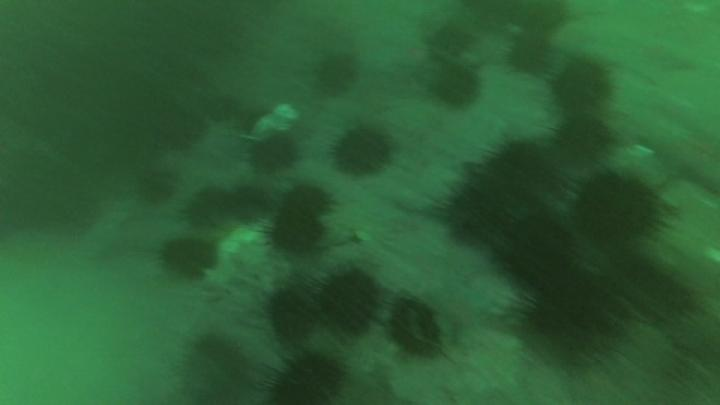echinus: (575, 174, 663, 241), (508, 210, 581, 285), (485, 146, 566, 209), (532, 277, 609, 343), (183, 334, 246, 405), (325, 270, 381, 338), (445, 186, 510, 241), (273, 356, 342, 405), (392, 300, 443, 359), (556, 58, 606, 114), (273, 286, 321, 341), (333, 127, 389, 173), (161, 240, 214, 282), (561, 116, 611, 160), (183, 191, 235, 233), (268, 215, 323, 254), (429, 69, 480, 111), (510, 31, 552, 77), (315, 55, 357, 96), (280, 186, 334, 215), (250, 139, 296, 173), (237, 188, 279, 225)
scallop: (251, 114, 291, 136), (626, 142, 657, 161), (275, 104, 303, 122), (232, 228, 260, 243), (221, 241, 237, 257), (355, 230, 374, 242)
